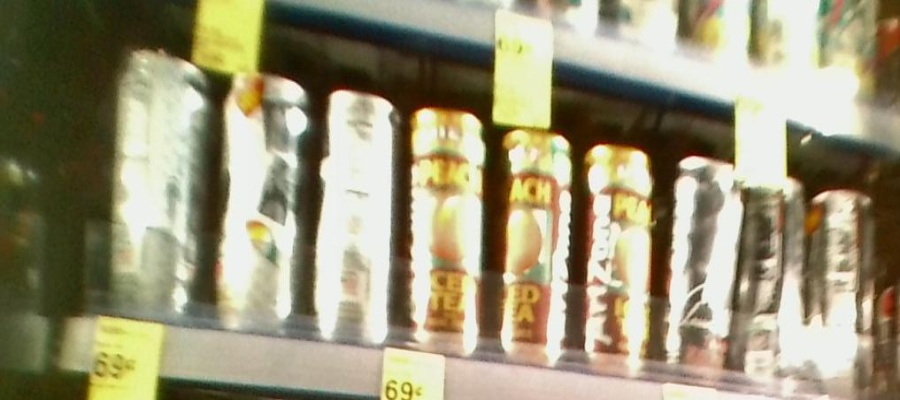bottle: (110, 40, 214, 323), (217, 57, 310, 331), (312, 74, 400, 348), (404, 92, 488, 362), (493, 107, 574, 367), (575, 127, 651, 379), (665, 133, 741, 385), (812, 163, 879, 400), (743, 166, 810, 387)
